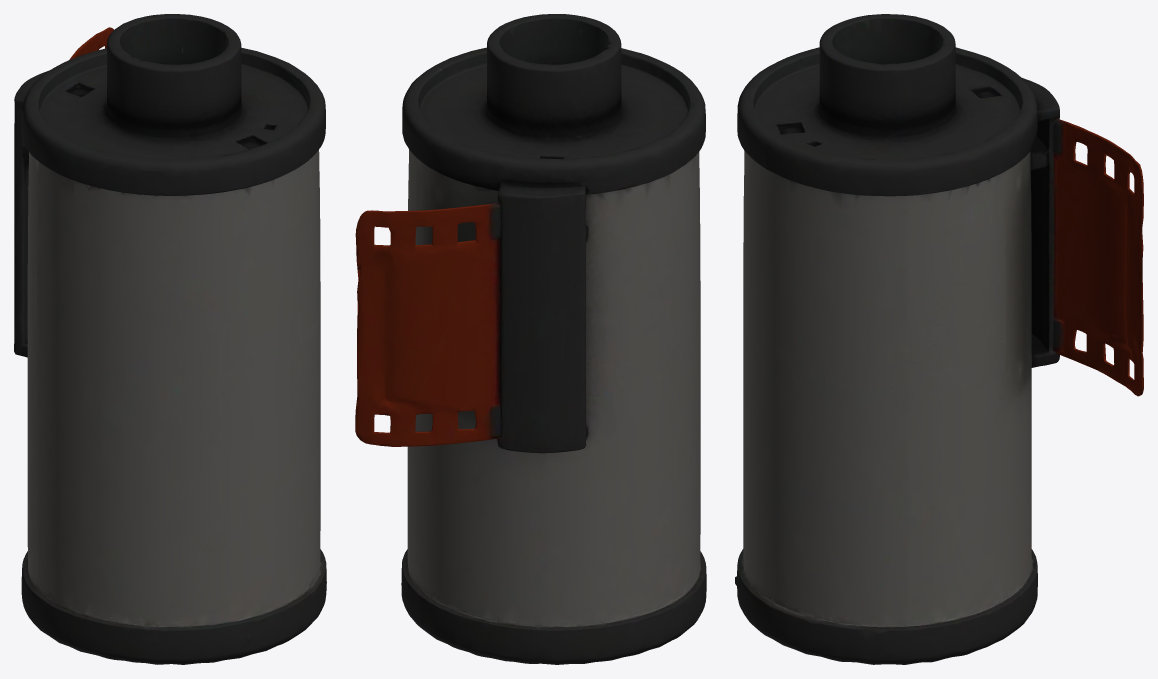
Rendered from film-cartridge.glb.
3 renders of one model, left to right at view 1: azimuth 30°, elevation 25°; view 2: azimuth 150°, elevation 25°; view 3: azimuth 270°, elevation 25°, orthographic.
Parts seen in each view (by area): view 1: tripo_node_46eedae6-41b2-4360-90fb-c717ad1640df; view 2: tripo_node_46eedae6-41b2-4360-90fb-c717ad1640df; view 3: tripo_node_46eedae6-41b2-4360-90fb-c717ad1640df.
Part boxes in pixels (x1,y1,x2,y2): tripo_node_46eedae6-41b2-4360-90fb-c717ad1640df: [14, 14, 326, 664]; tripo_node_46eedae6-41b2-4360-90fb-c717ad1640df: [355, 14, 706, 664]; tripo_node_46eedae6-41b2-4360-90fb-c717ad1640df: [735, 14, 1143, 664].
Bounding box in the file's own units: 0.4941 × 1 × 0.6569.
1 material, 1 textured.
